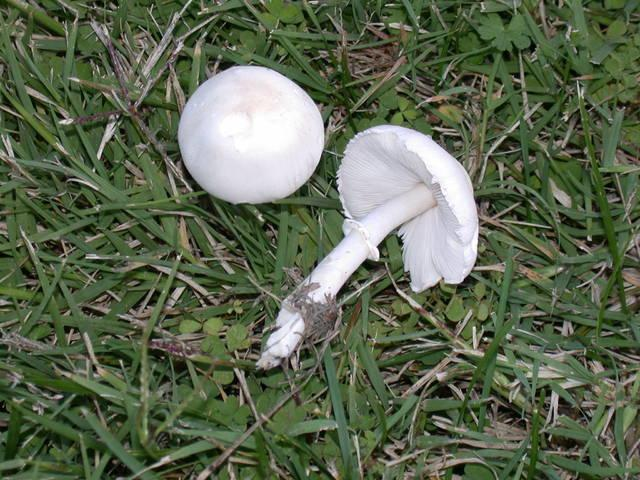Non-edible Mushroom: (254, 123, 479, 371), (176, 63, 325, 205)
